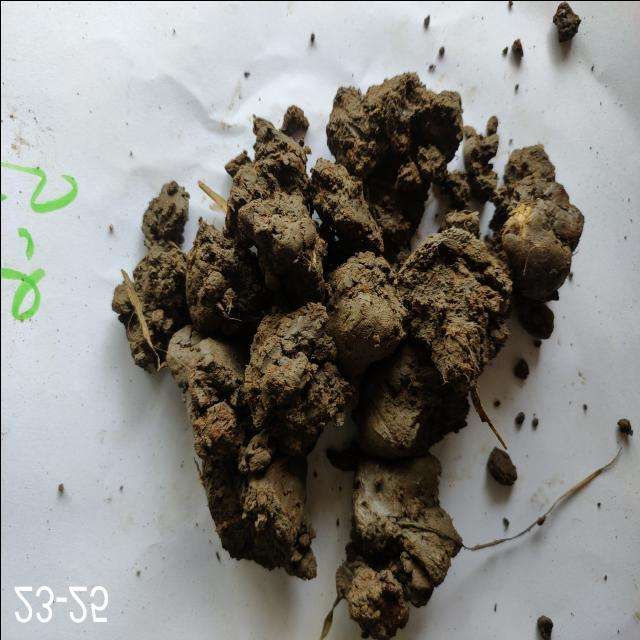soil: (242, 180, 468, 428)
